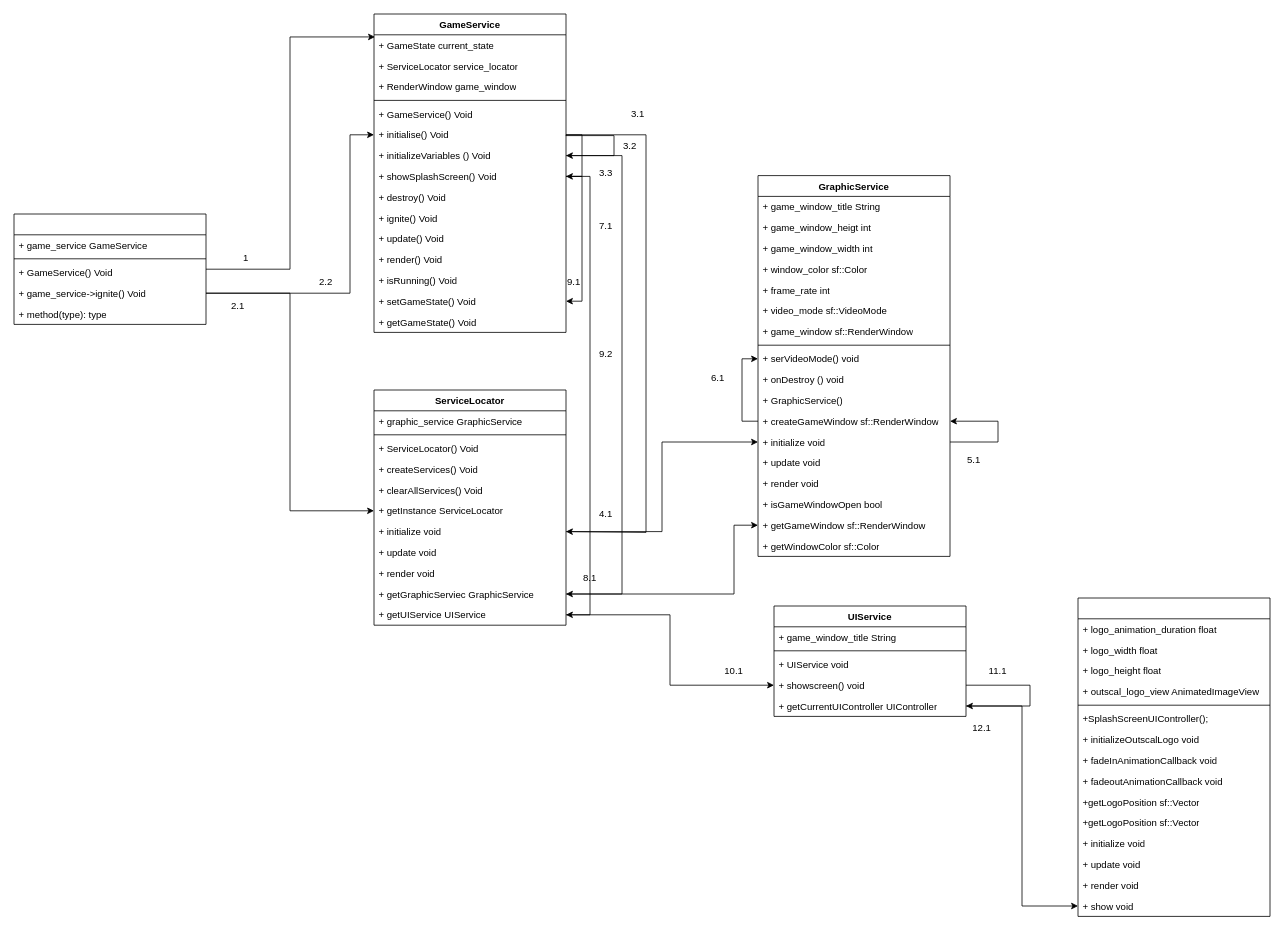
Image size: 1284x933. Some labels were removed from this diagram. The box of each missing label's shape, as (x1, y1, x2, y2) in pixels:
Main: (13, 213, 206, 324)
SplashUIController: (1077, 597, 1270, 916)
